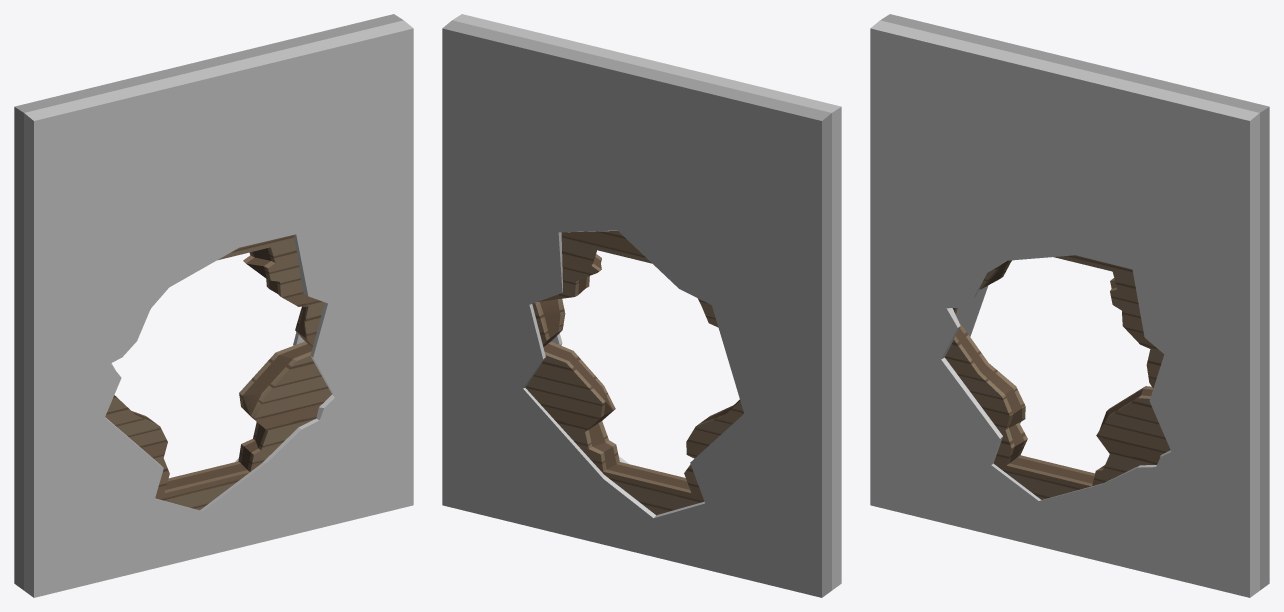
The model's file is SM_Bld_Wall_Hole_01.fbx.
3 views of the same model, side by side, from view 1: azimuth 30°, elevation 25°; view 2: azimuth 150°, elevation 25°; view 3: azimuth 330°, elevation 25° (orthographic).
Parts seen in each view (by area): view 1: SM_Bld_Wall_Hole_01; view 2: SM_Bld_Wall_Hole_01; view 3: SM_Bld_Wall_Hole_01.
Boxes of the visible parts, x1,y1,x2,y2 form: SM_Bld_Wall_Hole_01: [14, 14, 413, 597]; SM_Bld_Wall_Hole_01: [442, 14, 841, 597]; SM_Bld_Wall_Hole_01: [870, 14, 1269, 597].
Size of the model in its own units: 250 by 301 by 22.5.
